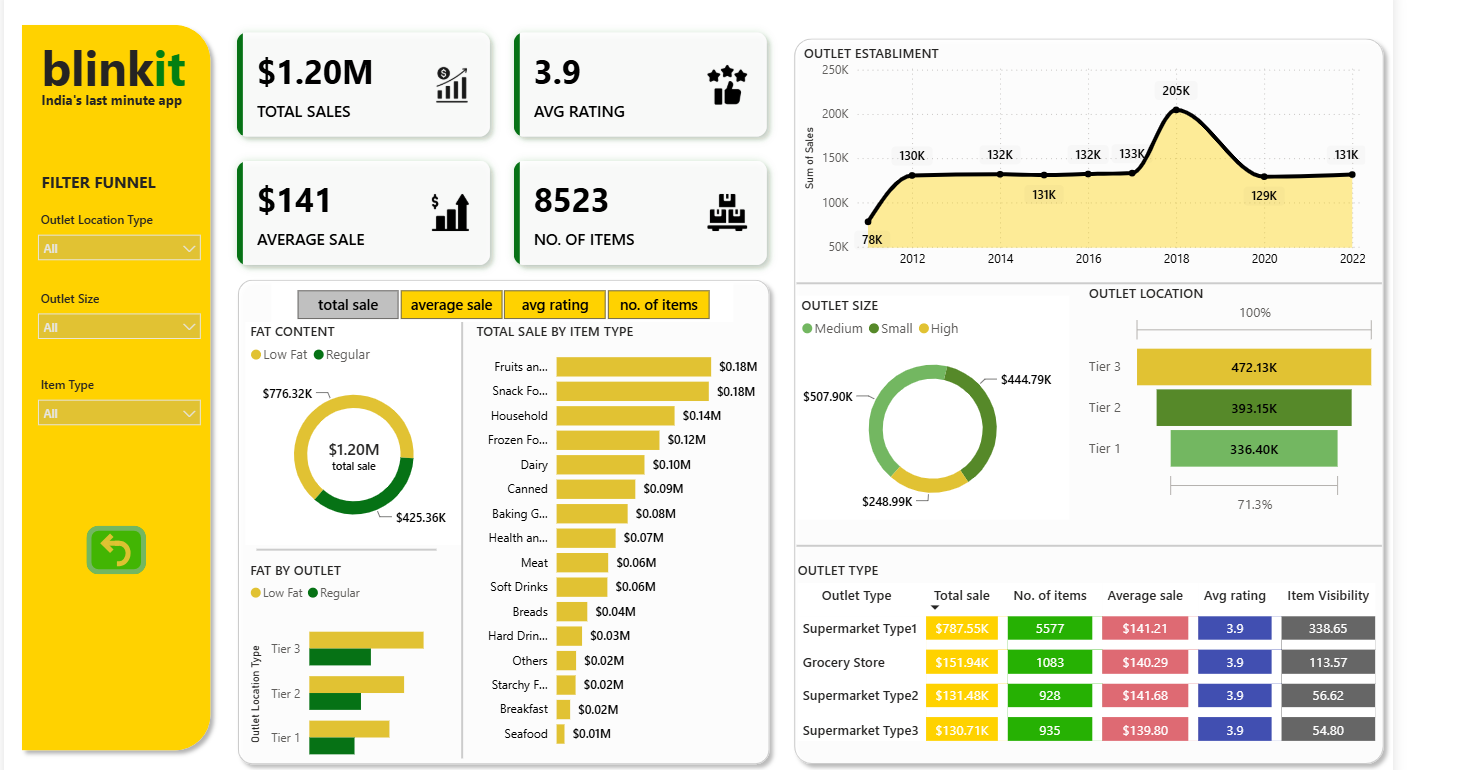

The page's visual inventory and layout, read from the dashboard file:
{"tool":"powerbi","page":{"name":"Page 1","canvas":[1400,800],"ordinal":0},"visuals":[{"type":"shape","box":[9.2,23.6,208.4,749.8],"z":0},{"type":"textbox","box":[254.1,478.1,208.3,295.1],"z":1000},{"type":"textbox","box":[33.1,94.7,162.5,30],"z":2000},{"type":"textbox","box":[33.1,37.9,184.6,86.8],"z":3000},{"type":"cardVisual","fields":{"Data":["BlinkIT Grocery Data.total sale","BlinkIT Grocery Data.avg rating","BlinkIT Grocery Data.average sale","BlinkIT Grocery Data.no. of items"]},"box":[217.8,23.7,569.7,269.8],"z":4000},{"type":"shape","box":[227.2,280.9,553.9,506.5],"z":5000},{"type":"donutChart","title":"FAT CONTENT","fields":{"Category":["BlinkIT Grocery Data.Item Fat Content"],"Y":["BlinkIT Grocery Data.total sale"]},"box":[243,333,219.3,225],"z":6000},{"type":"slicer","fields":{"Values":["MATRICS.MATRICS"]},"box":[269.8,293.5,465.5,39.5],"z":7000},{"type":"cardVisual","fields":{"Data":["BlinkIT Grocery Data.total sale"]},"box":[309.3,437.1,88.4,60],"z":8000},{"type":"clusteredBarChart","title":"FAT BY OUTLET","fields":{"Category":["BlinkIT Grocery Data.Outlet Location Type"],"Series":["BlinkIT Grocery Data.Item Fat Content"],"Y":["BlinkIT Grocery Data.total sale"]},"box":[243,572.8,220,220],"z":9000},{"type":"shape","box":[254.1,552.3,181.5,20.5],"z":10000},{"type":"shape","box":[452.9,333,18.9,440.3],"z":11000},{"type":"barChart","title":"TOTAL SALE BY ITEM TYPE","fields":{"Category":["BlinkIT Grocery Data.Item Type"],"Y":["BlinkIT Grocery Data.total sale"]},"box":[471.8,333,293.5,440.3],"z":12000},{"type":"shape","box":[787.4,37.9,612.3,749.6],"z":13000},{"type":"lineChart","title":"OUTLET ESTABLIMENT","fields":{"Category":["BlinkIT Grocery Data.Outlet Establishment Year"],"Y":["Sum(BlinkIT Grocery Data.Sales)"]},"box":[801.6,52.1,576,235.1],"z":14000},{"type":"shape","box":[798.5,280.9,590.2,25.2],"z":15000},{"type":"donutChart","title":"OUTLET SIZE","fields":{"Category":["BlinkIT Grocery Data.Outlet Size"],"Y":["BlinkIT Grocery Data.total sale"]},"box":[798.5,306.1,275,225.7],"z":16000},{"type":"funnel","title":"OUTLET LOCATION","fields":{"Category":["BlinkIT Grocery Data.Outlet Location Type"],"Y":["Sum(BlinkIT Grocery Data.Sales)"]},"box":[1088.8,293.5,299.8,238.3],"z":17000},{"type":"pivotTable","title":"OUTLET TYPE","fields":{"Rows":["BlinkIT Grocery Data.Outlet Type"],"Values":["BlinkIT Grocery Data.total sale","BlinkIT Grocery Data.no. of items","BlinkIT Grocery Data.average sale","BlinkIT Grocery Data.avg rating","Sum(BlinkIT Grocery Data.Item Visibility)"]},"box":[795.3,572.8,593.3,198.8],"z":18000},{"type":"shape","box":[798.5,546,590.2,25.2],"z":19000},{"type":"slicer","fields":{"Values":["BlinkIT Grocery Data.Outlet Location Type"]},"box":[23.7,216.2,184.6,71],"z":20000},{"type":"textbox","box":[33.1,175.2,149.9,41],"z":21000},{"type":"actionButton","box":[83.6,538.1,60,48.9],"z":22000},{"type":"slicer","fields":{"Values":["BlinkIT Grocery Data.Outlet Size"]},"box":[23.7,296.7,184.6,71],"z":23000},{"type":"slicer","fields":{"Values":["BlinkIT Grocery Data.Item Type"]},"box":[23.7,383.5,184.6,71],"z":24000}]}

Visuals, with their boxes on the page's 1400x800 design canvas (x1, y1, x2, y2). These are canvas units, not pixel positions in the 1472x770 screenshot, which may show the page scaled, cropped or inside an application window:
shape: locate(9, 24, 218, 773)
textbox: locate(254, 478, 462, 773)
textbox: locate(33, 95, 196, 125)
textbox: locate(33, 38, 218, 125)
cardVisual - BlinkIT Grocery Data.total sale x BlinkIT Grocery Data.avg rating: locate(218, 24, 788, 294)
shape: locate(227, 281, 781, 787)
"FAT CONTENT" donutChart: locate(243, 333, 462, 558)
slicer - MATRICS.MATRICS: locate(270, 294, 735, 333)
cardVisual - BlinkIT Grocery Data.total sale: locate(309, 437, 398, 497)
"FAT BY OUTLET" clusteredBarChart: locate(243, 573, 463, 793)
shape: locate(254, 552, 436, 573)
shape: locate(453, 333, 472, 773)
"TOTAL SALE BY ITEM TYPE" barChart: locate(472, 333, 765, 773)
shape: locate(787, 38, 1400, 788)
"OUTLET ESTABLIMENT" lineChart: locate(802, 52, 1378, 287)
shape: locate(798, 281, 1389, 306)
"OUTLET SIZE" donutChart: locate(798, 306, 1074, 532)
"OUTLET LOCATION" funnel: locate(1089, 294, 1389, 532)
"OUTLET TYPE" pivotTable: locate(795, 573, 1389, 772)
shape: locate(798, 546, 1389, 571)
slicer - BlinkIT Grocery Data.Outlet Location Type: locate(24, 216, 208, 287)
textbox: locate(33, 175, 183, 216)
actionButton: locate(84, 538, 144, 587)
slicer - BlinkIT Grocery Data.Outlet Size: locate(24, 297, 208, 368)
slicer - BlinkIT Grocery Data.Item Type: locate(24, 384, 208, 454)
